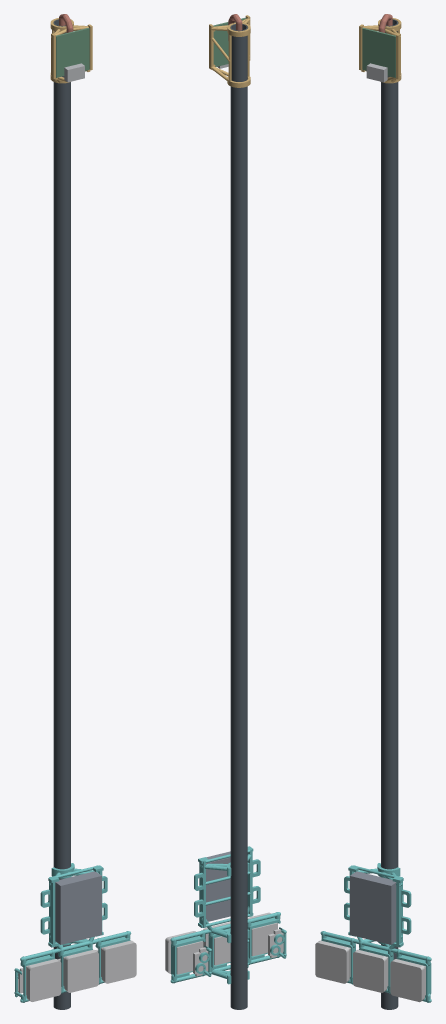
File: Assembly-reference.glb
The picture shows the model from 3 angles, left to right: view 1: azimuth 30°, elevation 25°; view 2: azimuth 210°, elevation 25°; view 3: azimuth 330°, elevation 25°; orthographic projection.
Visible parts, largest first — view 1: REFERENCE_rod, Key_Battery_Carrier, REFERENCE_battery, REFERENCE_key_2_cap, REFERENCE_key_1_cap, REFERENCE_key_0_cap, REFERENCE_pcb, XIAO_Rod_Holder, REFERENCE_usb; view 2: REFERENCE_rod, Key_Battery_Carrier, REFERENCE_battery, XIAO_Rod_Holder, REFERENCE_key_2_switch, REFERENCE_key_0_switch, REFERENCE_pcb, REFERENCE_key_1_switch; view 3: REFERENCE_rod, Key_Battery_Carrier, REFERENCE_battery, REFERENCE_key_0_cap, REFERENCE_key_1_cap, REFERENCE_key_2_cap, REFERENCE_pcb, XIAO_Rod_Holder, REFERENCE_usb.
Boxes of the visible parts, left/top/right/bottom form: REFERENCE_rod: left=53, top=19, right=70, bottom=1009; Key_Battery_Carrier: left=14, top=863, right=131, bottom=1002; REFERENCE_battery: left=55, top=871, right=101, bottom=944; REFERENCE_key_2_cap: left=102, top=940, right=136, bottom=983; REFERENCE_key_1_cap: left=64, top=949, right=98, bottom=992; REFERENCE_key_0_cap: left=27, top=959, right=61, bottom=1001; REFERENCE_pcb: left=56, top=28, right=89, bottom=77; XIAO_Rod_Holder: left=50, top=18, right=92, bottom=83; REFERENCE_usb: left=64, top=63, right=84, bottom=82; REFERENCE_rod: left=230, top=24, right=247, bottom=1009; Key_Battery_Carrier: left=170, top=846, right=286, bottom=984; REFERENCE_battery: left=206, top=851, right=230, bottom=921; XIAO_Rod_Holder: left=209, top=15, right=250, bottom=87; REFERENCE_key_2_switch: left=176, top=941, right=203, bottom=974; REFERENCE_key_0_switch: left=251, top=923, right=277, bottom=956; REFERENCE_pcb: left=213, top=18, right=246, bottom=66; REFERENCE_key_1_switch: left=214, top=936, right=230, bottom=965; REFERENCE_rod: left=381, top=19, right=398, bottom=1009; Key_Battery_Carrier: left=320, top=863, right=431, bottom=1002; REFERENCE_battery: left=350, top=871, right=396, bottom=944; REFERENCE_key_0_cap: left=315, top=940, right=349, bottom=983; REFERENCE_key_1_cap: left=353, top=949, right=387, bottom=992; REFERENCE_key_2_cap: left=390, top=959, right=424, bottom=1002; REFERENCE_pcb: left=362, top=27, right=395, bottom=77; XIAO_Rod_Holder: left=359, top=18, right=401, bottom=83; REFERENCE_usb: left=366, top=63, right=387, bottom=82.
Size of the model in its own units: 59.1 by 506 by 24.8.
